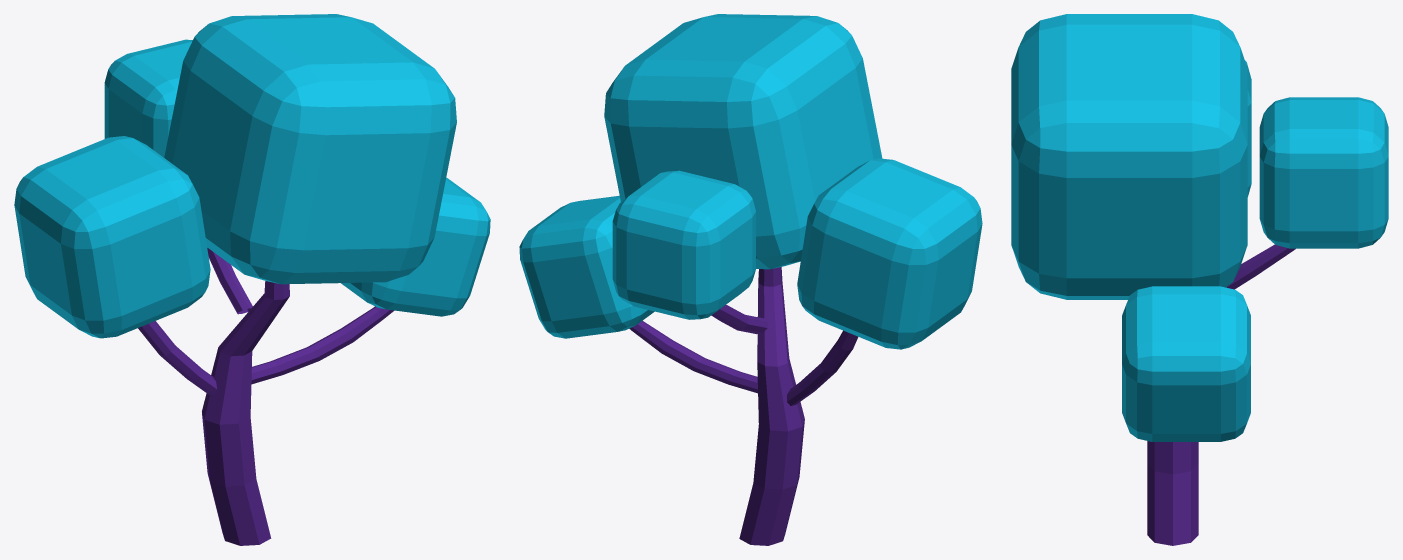
The model's file is Tree005_V1.fbx.
The picture shows the model from 3 angles, left to right: view 1: azimuth 30°, elevation 25°; view 2: azimuth 150°, elevation 25°; view 3: azimuth 270°, elevation 25°; orthographic projection. The views are drawn at different scales.
Parts seen in each view (by area): view 1: Tree005; view 2: Tree005; view 3: Tree005.
Boxes of the visible parts, x1,y1,x2,y2 form: Tree005: (14,14,490,545); Tree005: (519,14,982,545); Tree005: (1011,14,1388,545).
Size of the model in its own units: 4.83 by 5.36 by 3.56.
